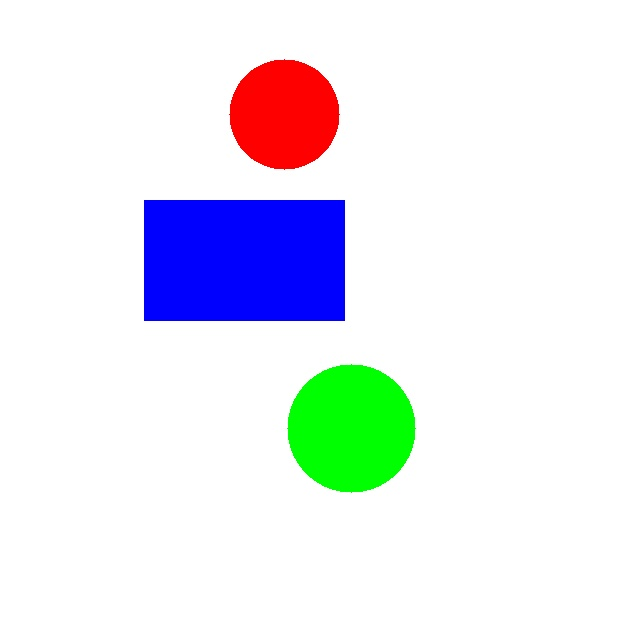cartao: (144, 200, 344, 320)
rosca_externa: (287, 364, 415, 492)
rosca_interna: (229, 59, 339, 169)
